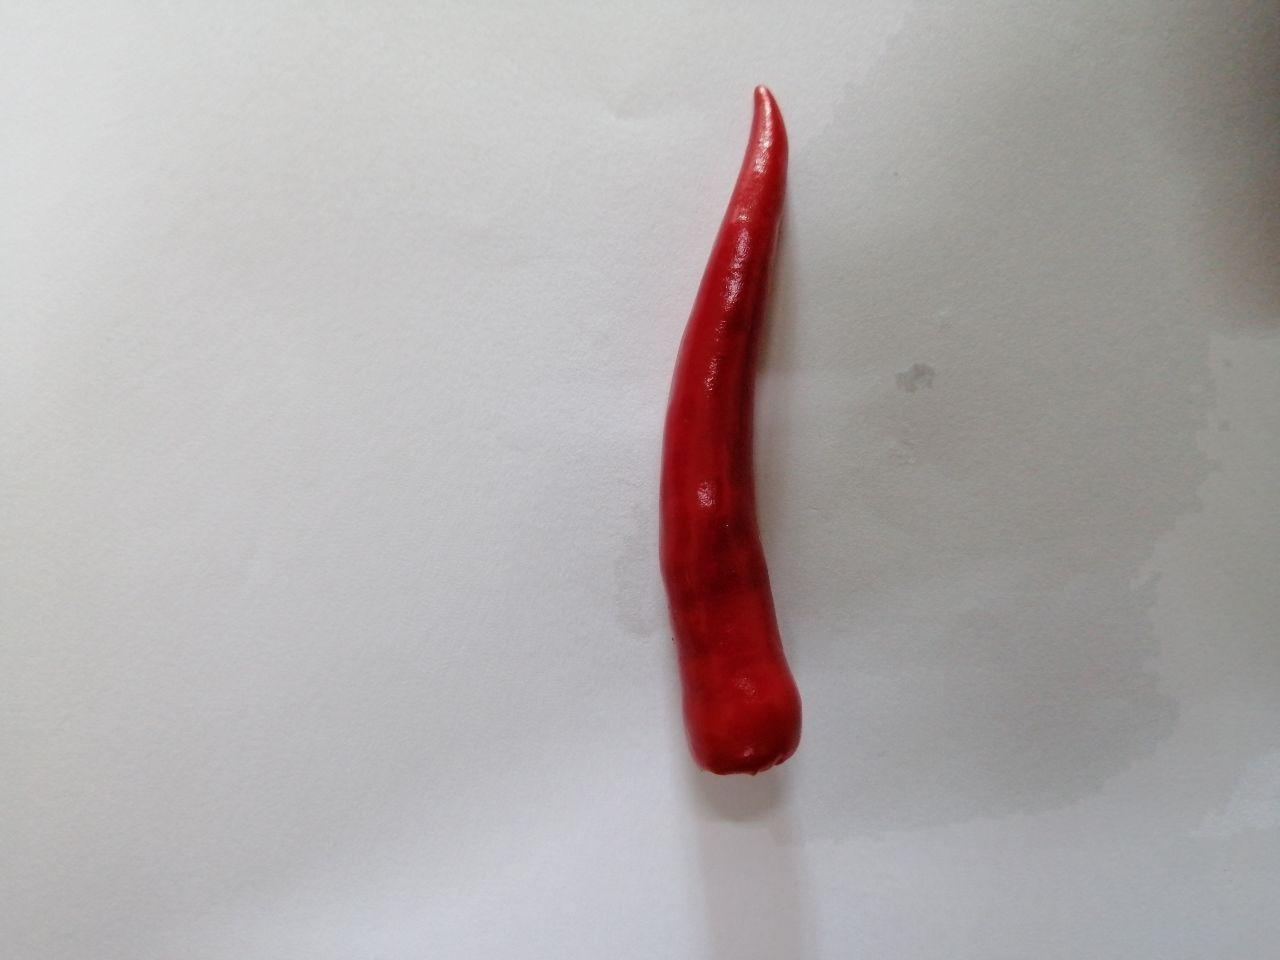lada merah: (615, 69, 847, 818)
